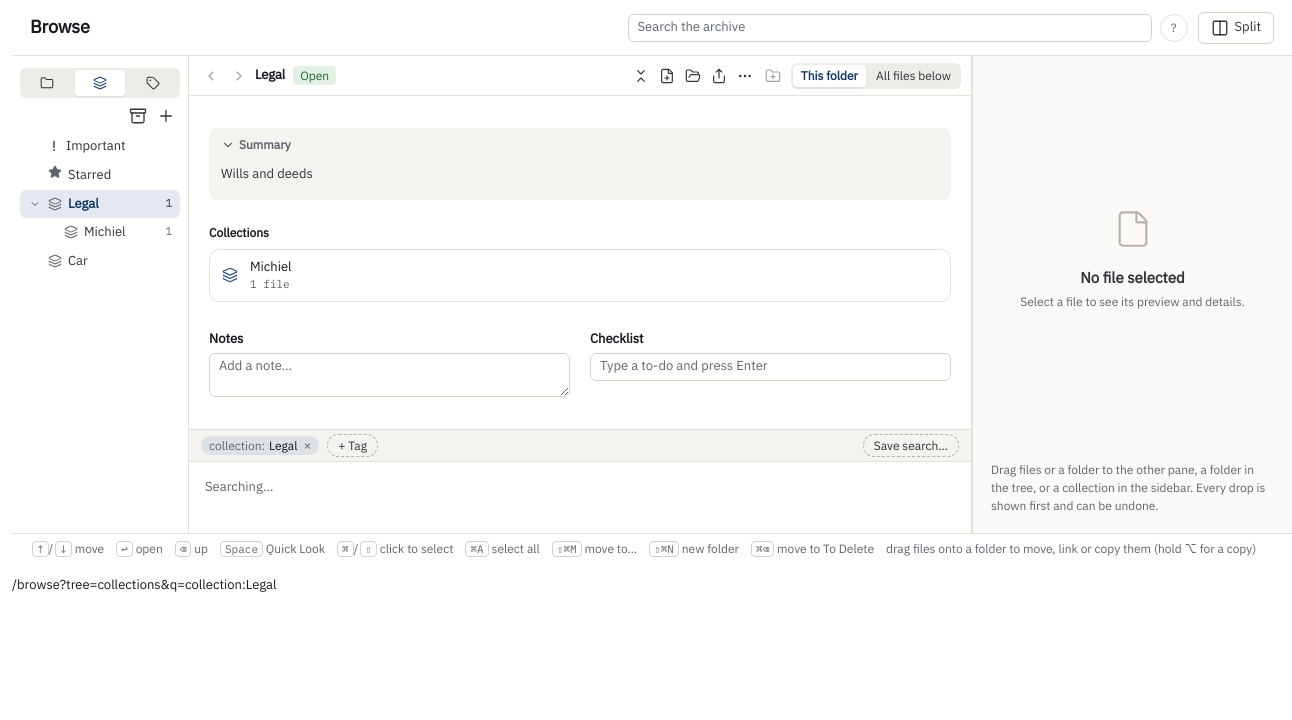
it: a collection above its files in Browse › a rename in the block keeps the collection on screen: the address follows the new name
This screenshot has width=1292, height=720.
Click the button with aria-label "Rename Legal": {"x": 270, "y": 76} 255,66 -> 285,85
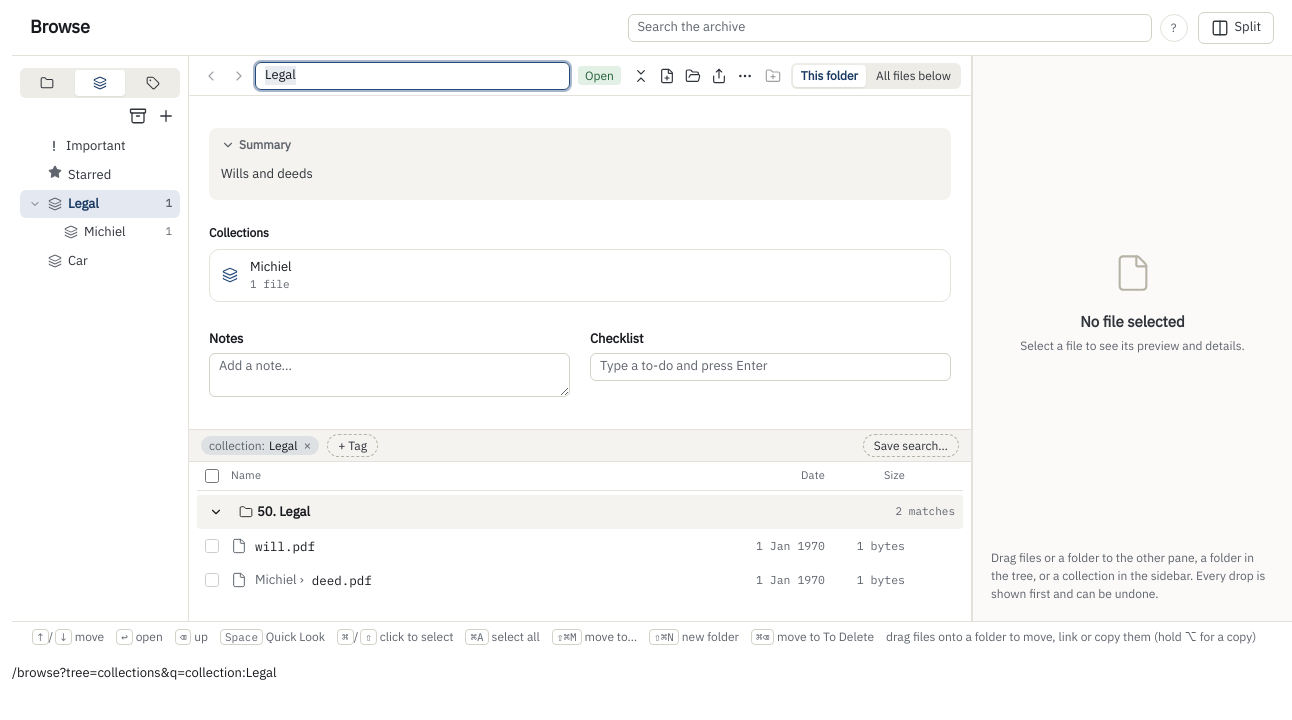
Replace the text in the field named "Collection name" with "Family law": {"x": 412, "y": 76} 255,62 -> 570,90
Then press Enter
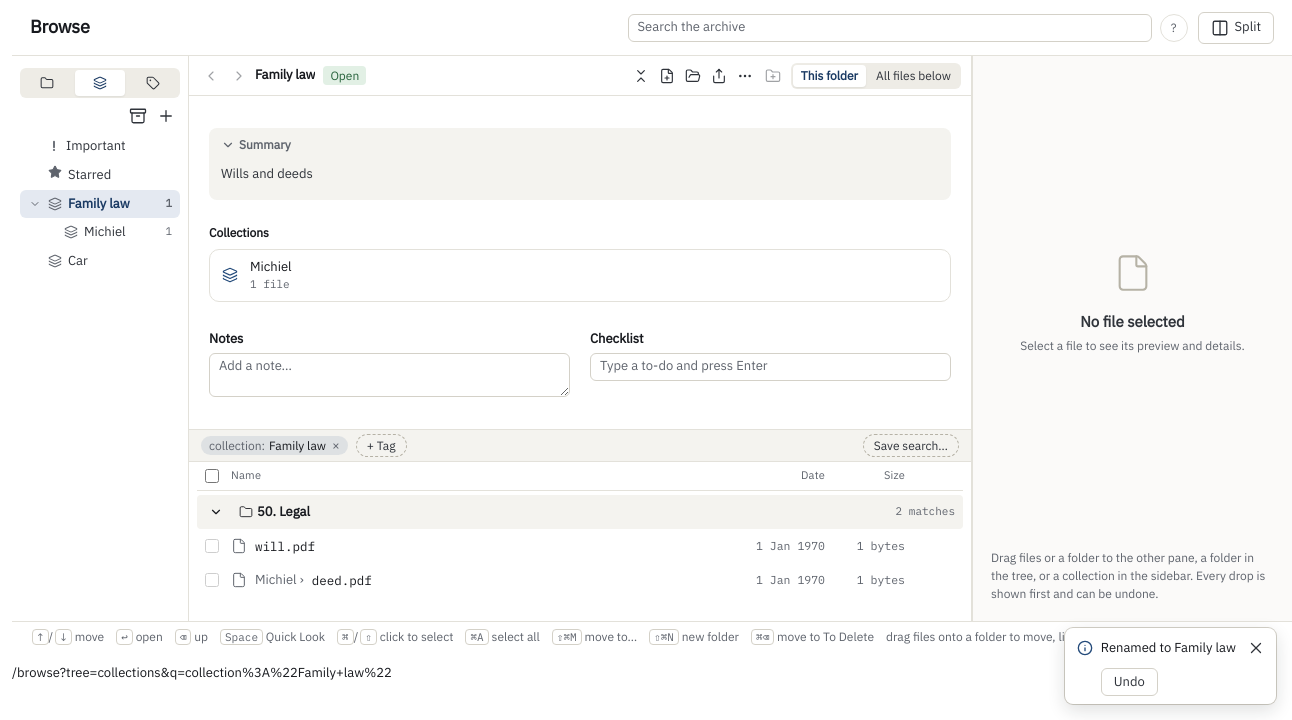
expect the button "Wills and deeds" is shown: met, box 215,160 -> 933,188
expect the text with test id "where" shows "collection%3A%22Family+law%22": met, box 12,664 -> 392,681
